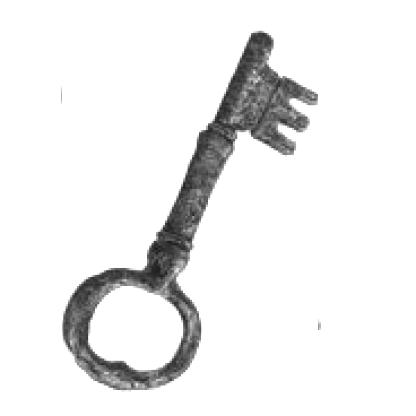key: (61, 30, 318, 394)
